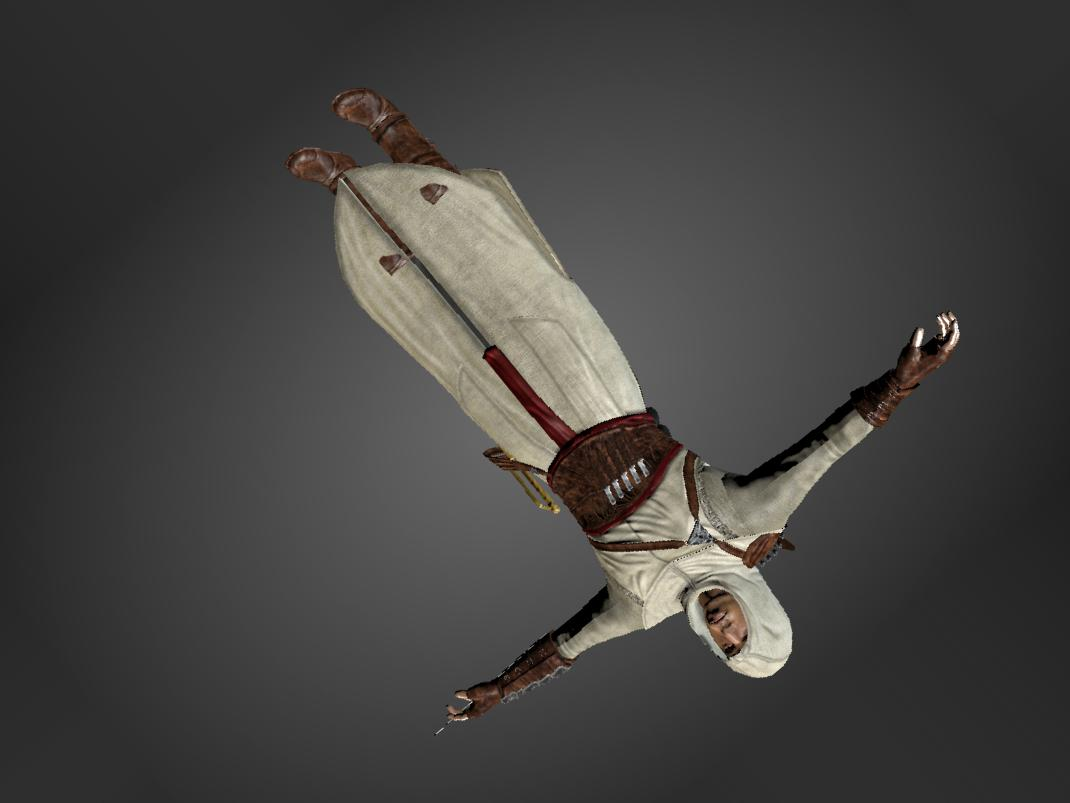clip: (371, 248, 410, 280), (418, 176, 444, 209)
